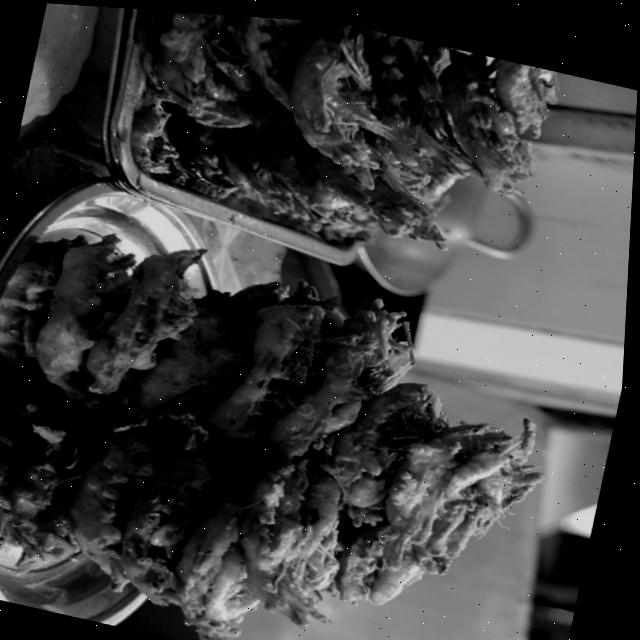炸货点心: (0, 168, 588, 640)
熟制海鲜: (0, 168, 588, 640)
